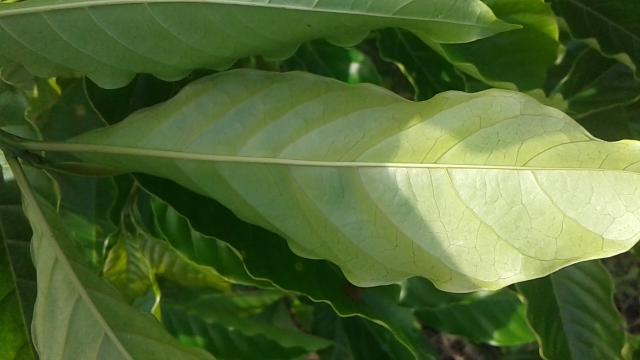healthy: (54, 68, 640, 296)
